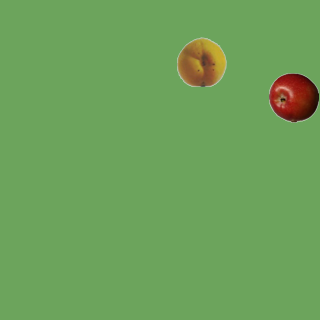Apple Braeburn: (268, 72, 318, 122)
Peach 2: (176, 36, 226, 86)
